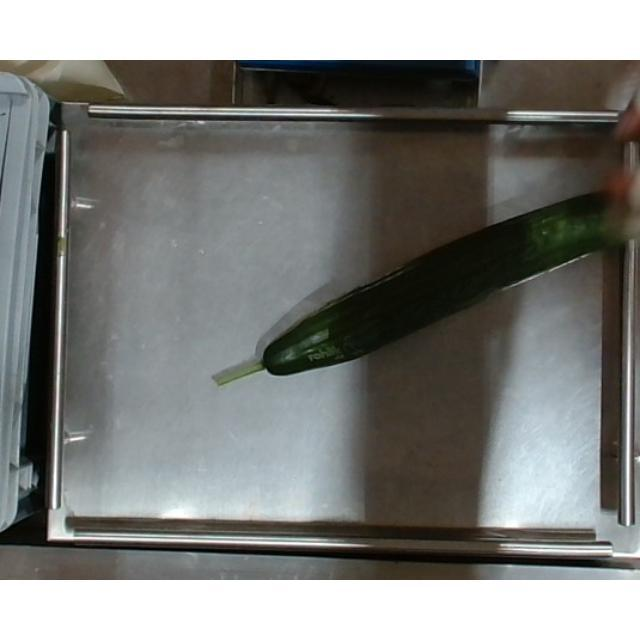cucumber: (213, 186, 632, 390)
